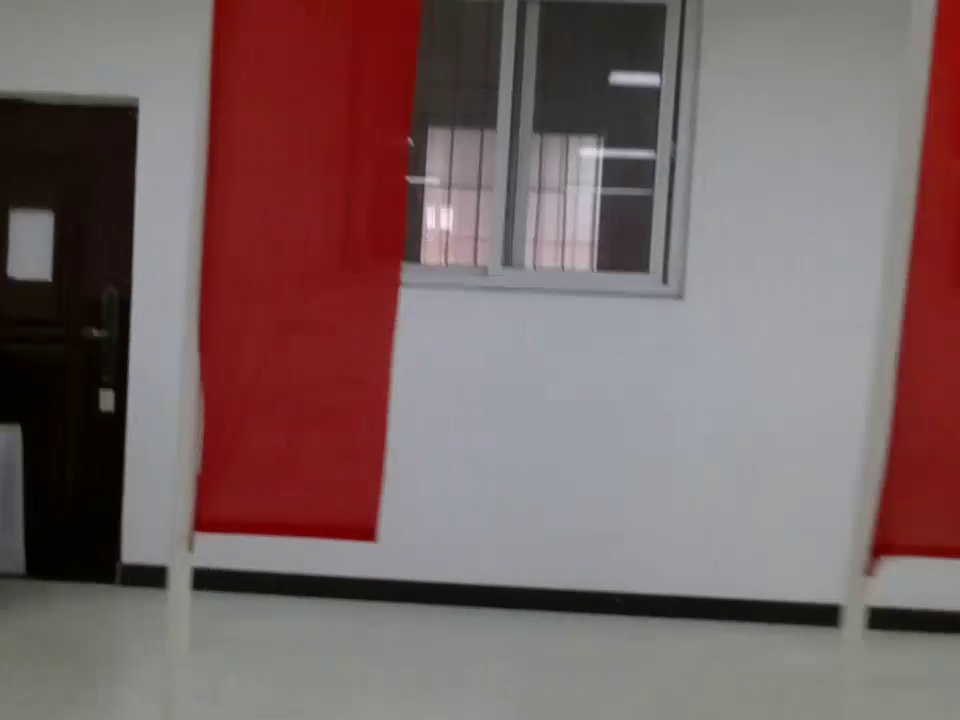qi: (162, 6, 420, 600), (838, 5, 960, 575)
